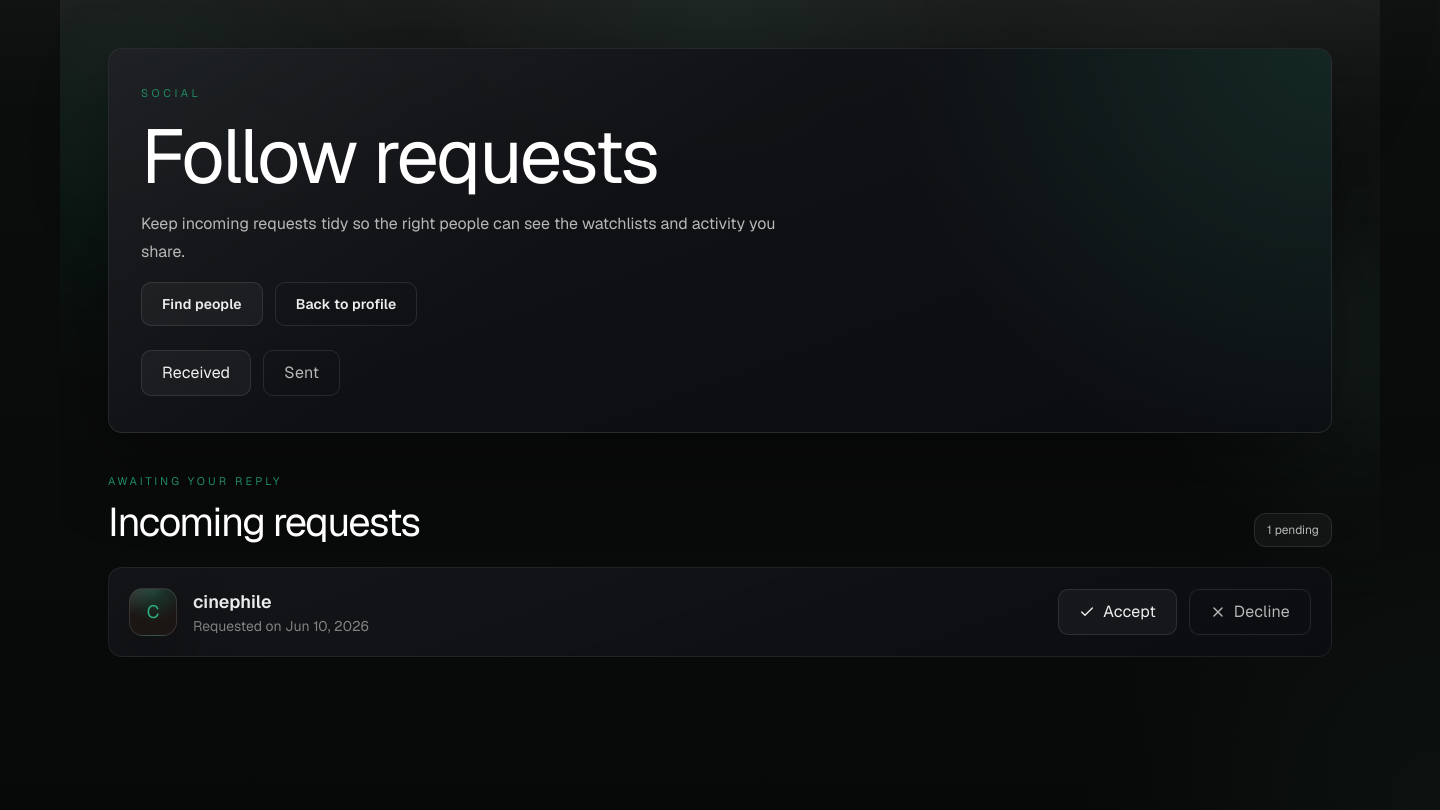
FollowRequestsPage › rejects a request and refreshes the list
Expected: the link "cinephile" is shown, x1=193 y1=590 x2=272 y2=613
Click the button "Decline" at (1250, 612), box x1=1189 y1=589 x2=1311 y2=635
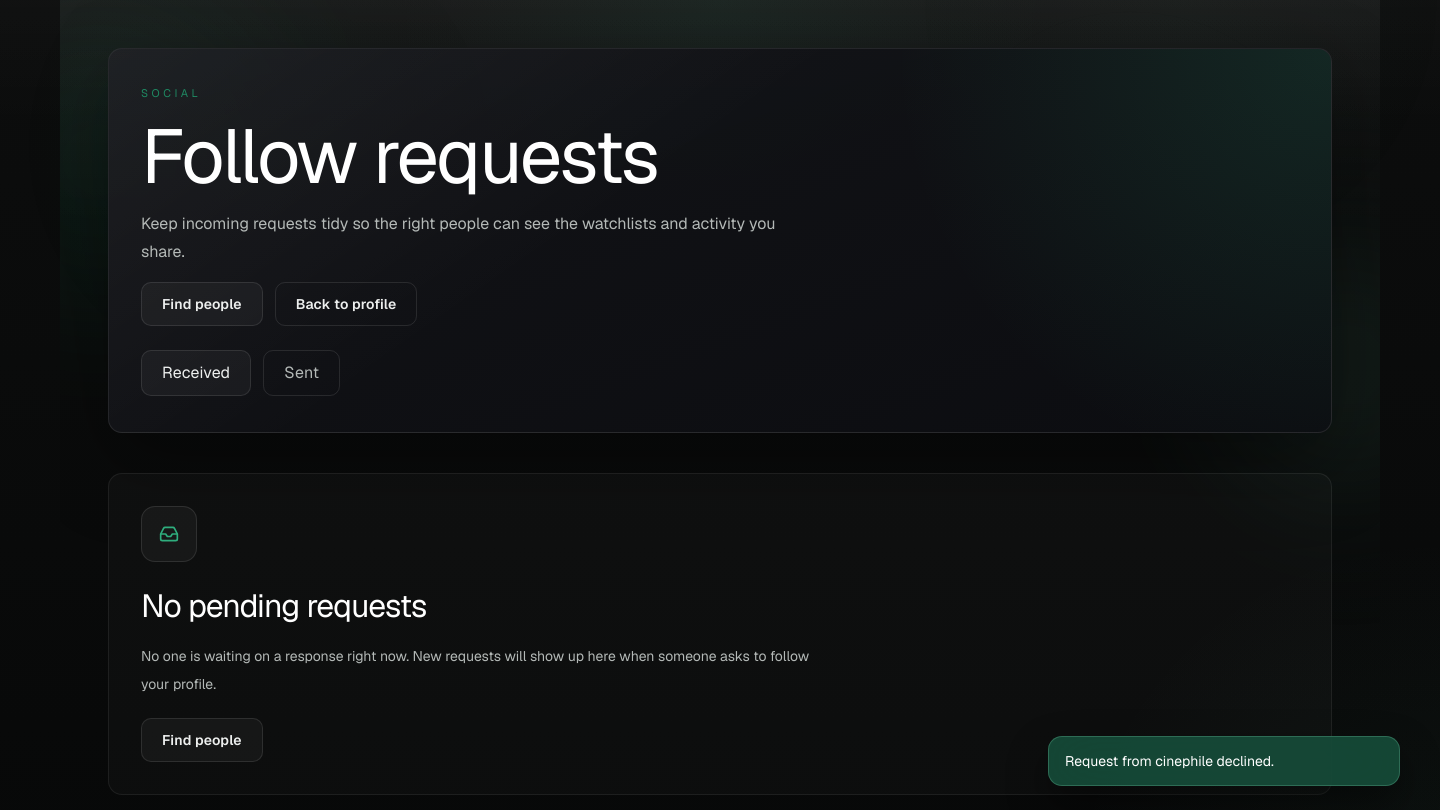
Result: the heading "No pending requests" is shown at x1=141 y1=584 x2=426 y2=626
